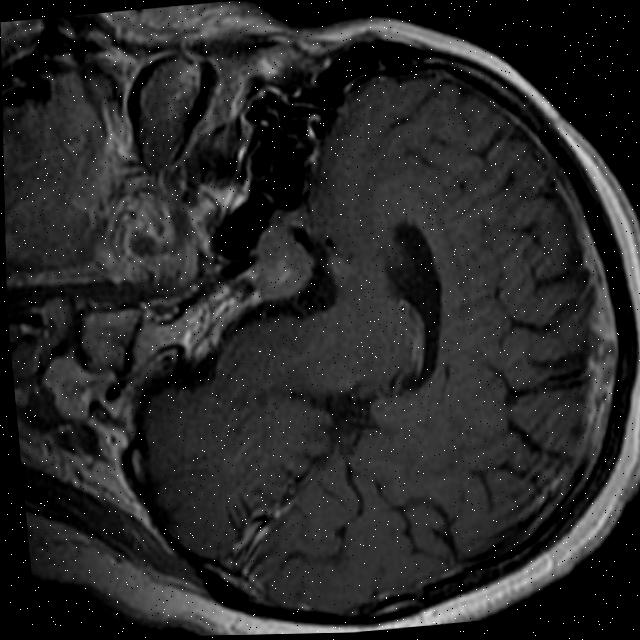Pituitary: (249, 223, 319, 303)
